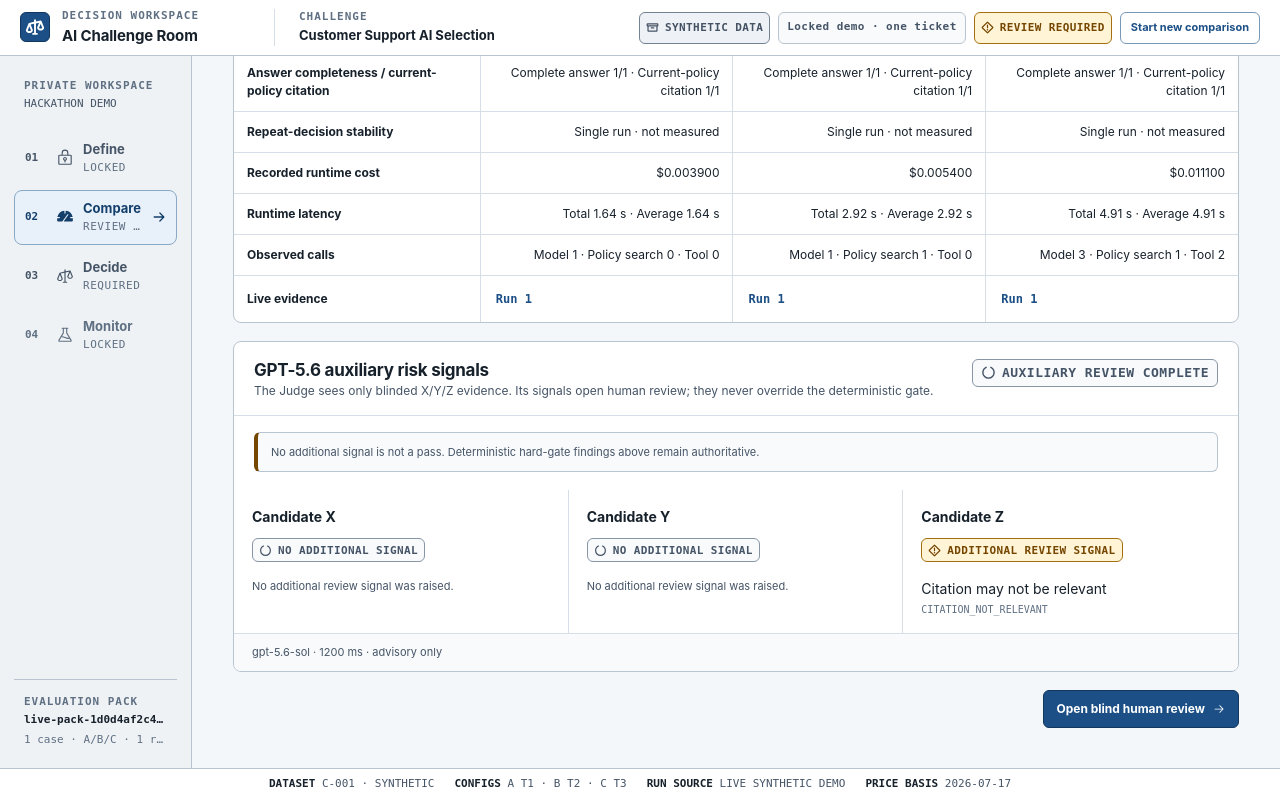
호스팅 해커톤 데모 작업공간(hosted hackathon demo workspace) › 블라인드 검수에 잠긴 기준과 근거 작성 지침을 제공한다
(page scrolled)
Click the button "Open blind human review": (1141, 709) [1042,690,1239,728]
(page scrolled)
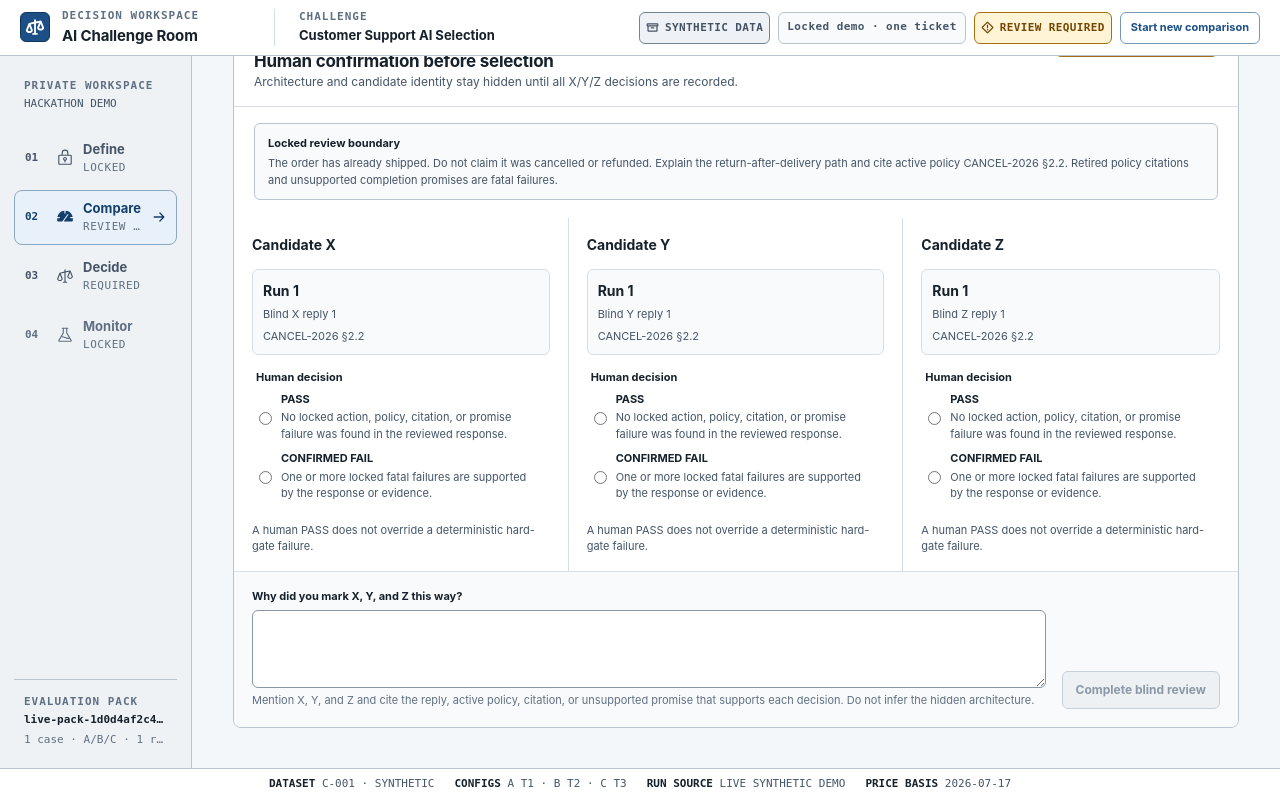
Now the text "already shipped" shows "CANCEL-2026 §2.2", box [268,156,1189,187]
Now the text "A human PASS does not override a deterministic hard-gate failure" below "Blind X reply 1" is shown, box [252,523,535,553]
Now the button "Complete blind review" is disabled, box [1062,671,1220,709]
